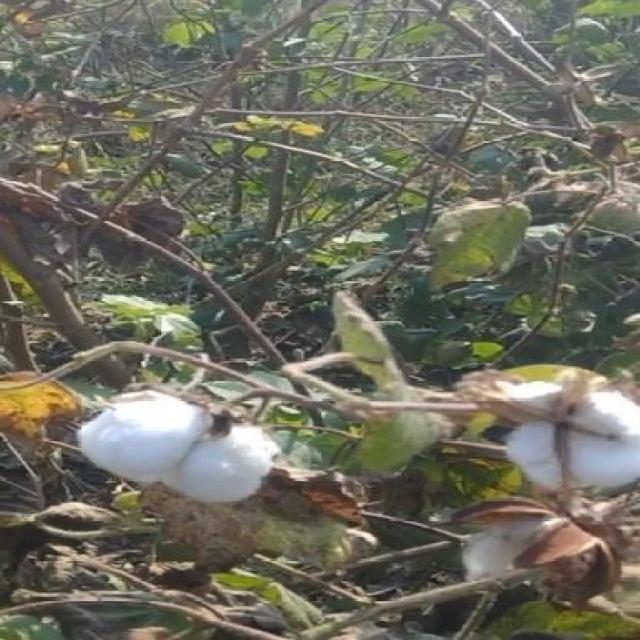cotton_ready: (77, 371, 291, 518), (452, 380, 630, 502)
